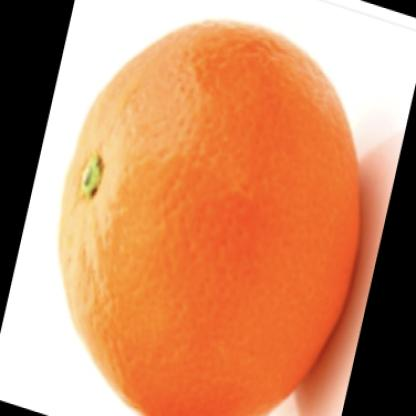fresh: (57, 21, 358, 416)
